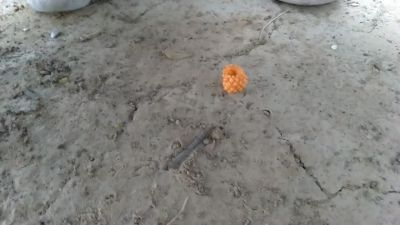eggs: (221, 62, 247, 92)
